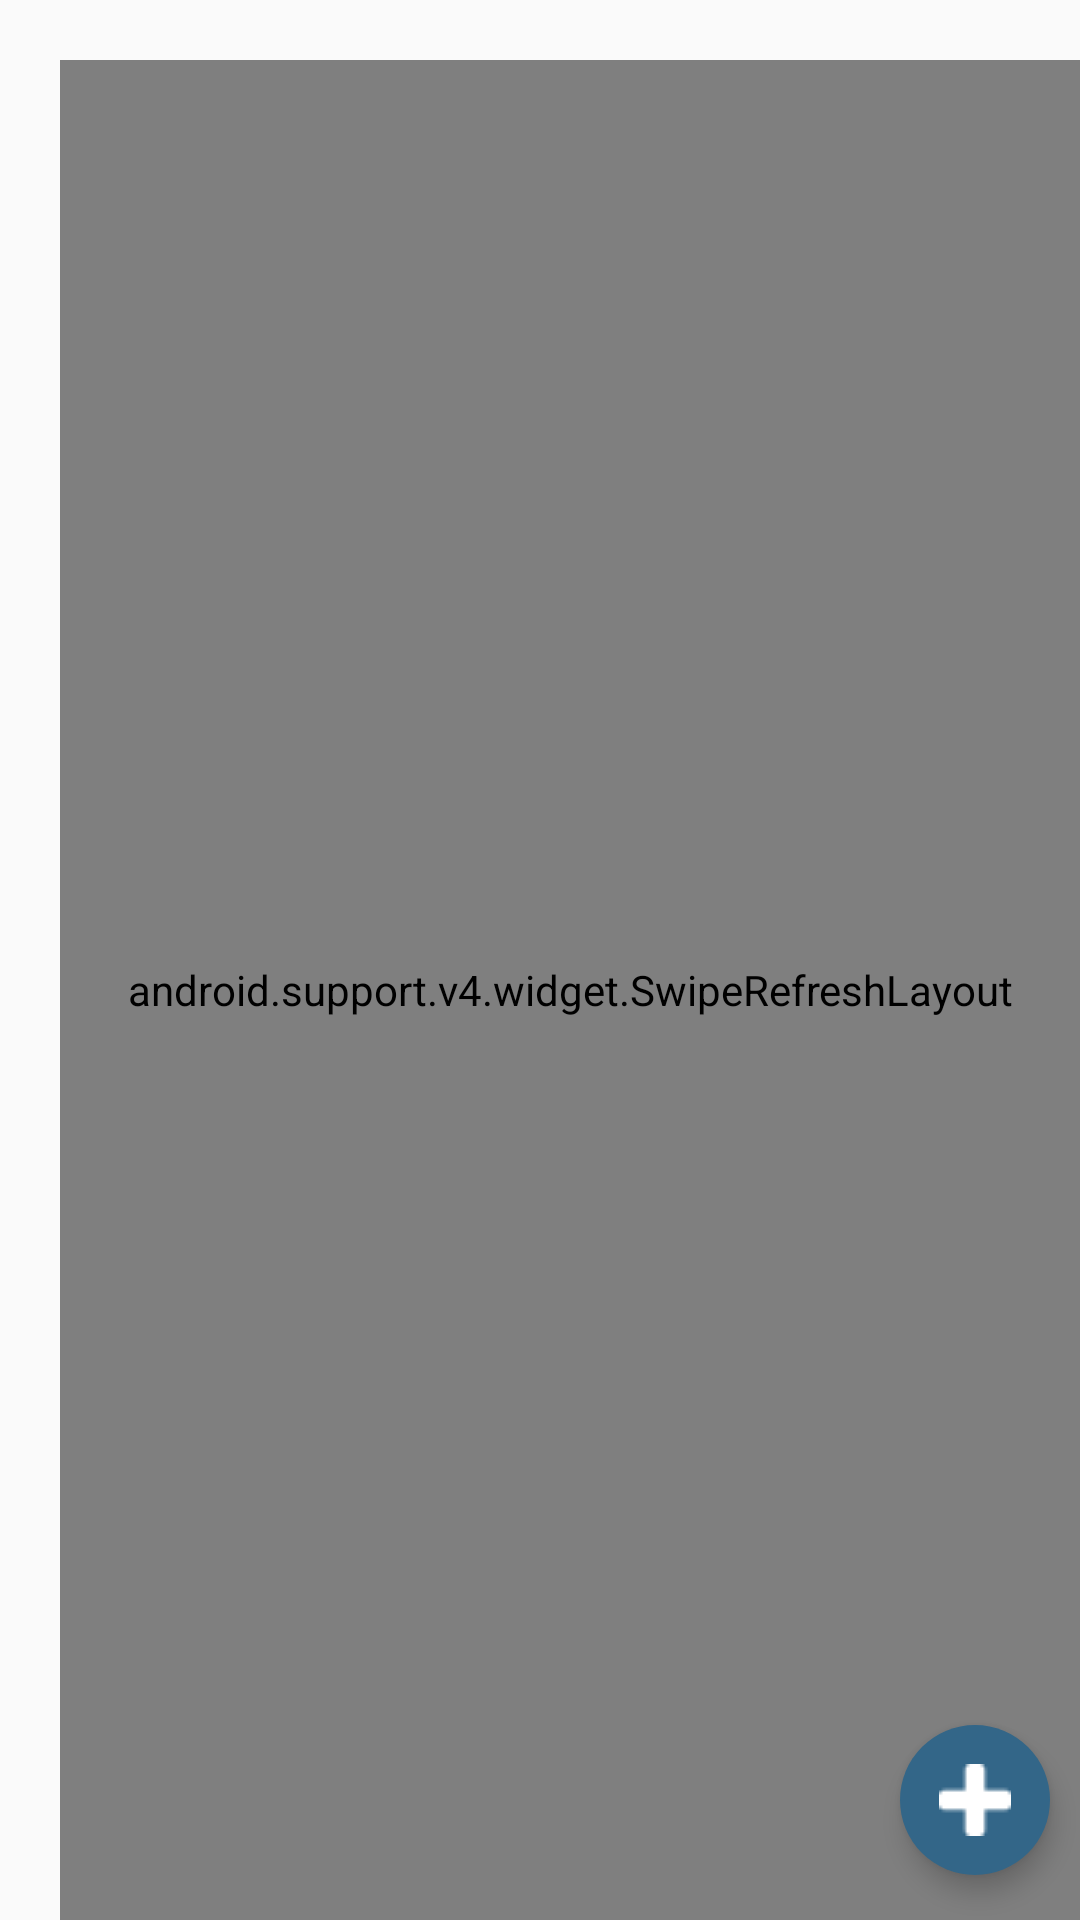

Screen size 1080 × 1920. Icon name, then its box in pixels as bbox=(x1, y1, x2, y2):
add: bbox=(900, 1725, 1050, 1875)
